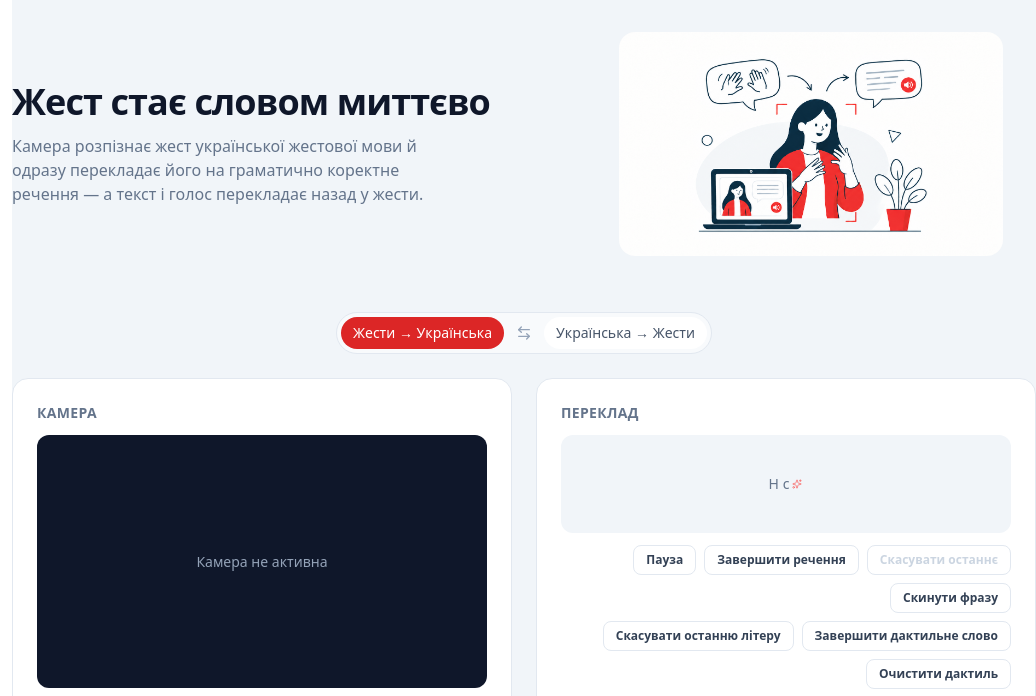
Test: TranslatorView › a confirmed letter with real ranked alternatives shows a correction popover, and picking one fixes the letter mid-word
The width and height of the screenshot is (1036, 696).
Check: the element with test id "live-sentence-status" reads "Н с", box top-left (561, 435), bottom-right (1011, 533)
Click the button named "Виправити літеру «С»" at (792,484), box top-left (781, 474), bottom-right (804, 494)
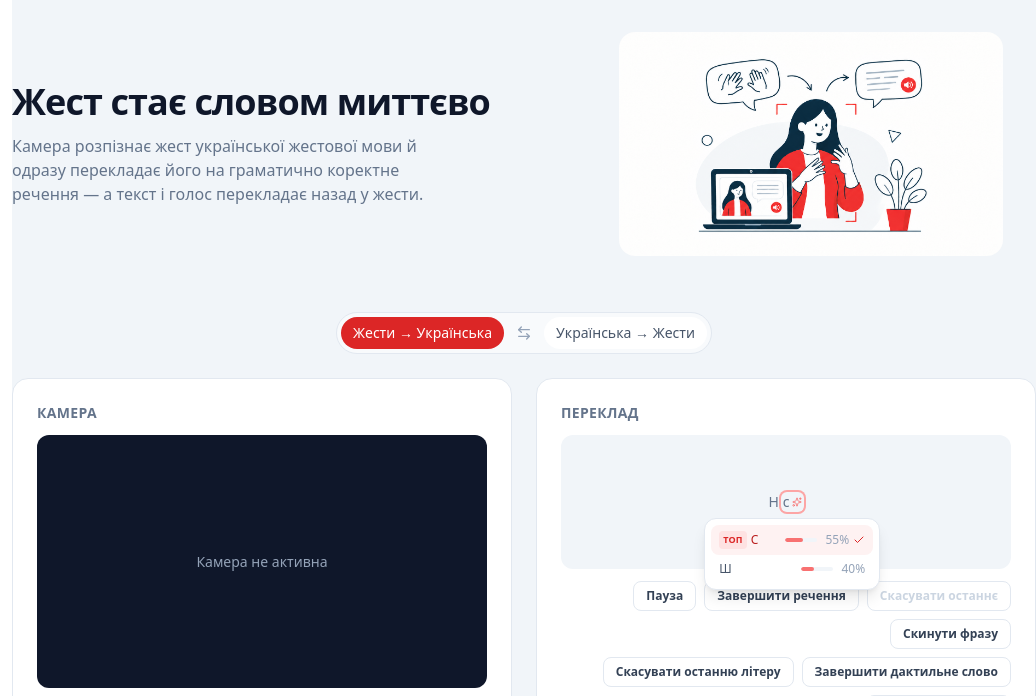
Click the option "Ш 40%" at (792,569), box top-left (711, 555), bottom-right (873, 583)
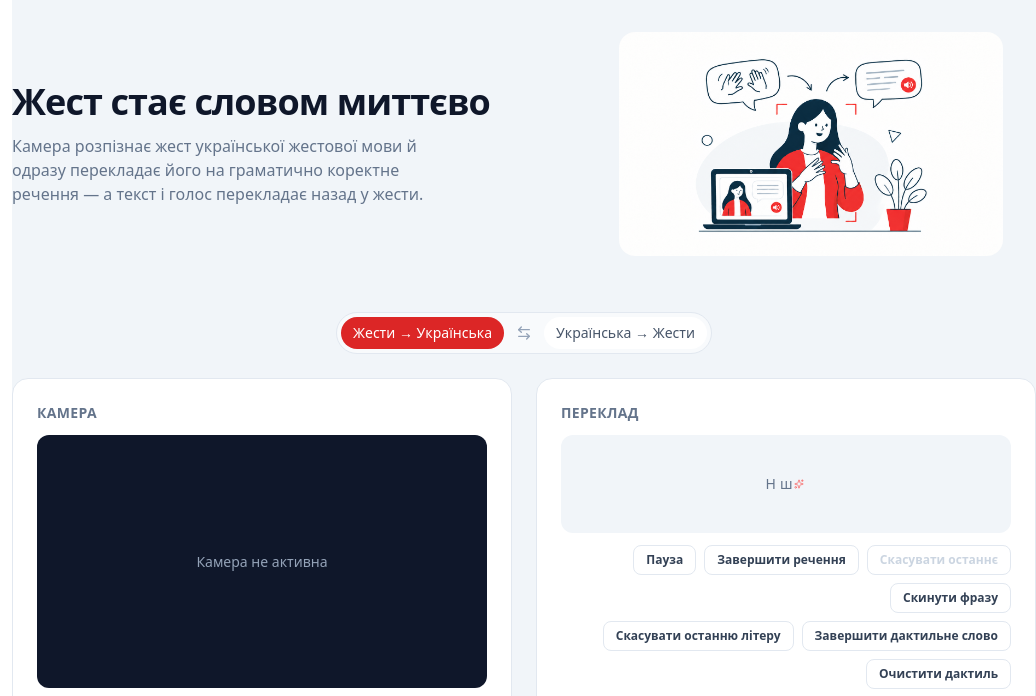
Check: the button named "Виправити літеру «Ш»" is shown, box top-left (778, 474), bottom-right (806, 494)
